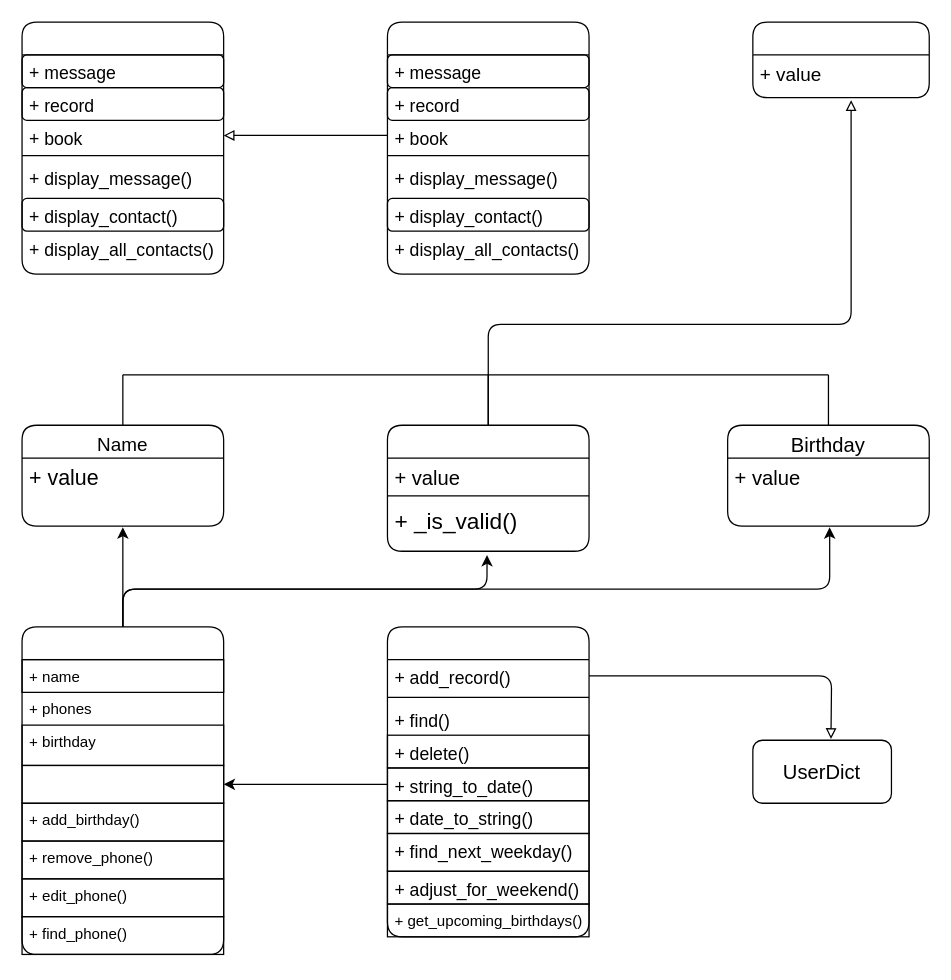
This 951x980 diagram has some shape labels left out. Here are the shapes that lost their labels. From the top down, the box of each, then its label:
(752, 21, 929, 98): Field
(21, 21, 224, 274): UserView
(386, 21, 589, 274): ConsoleView
(386, 424, 589, 551): Phone
(21, 764, 224, 803): + add phone()
(21, 626, 224, 954): Record
(386, 626, 589, 937): AddressBook
